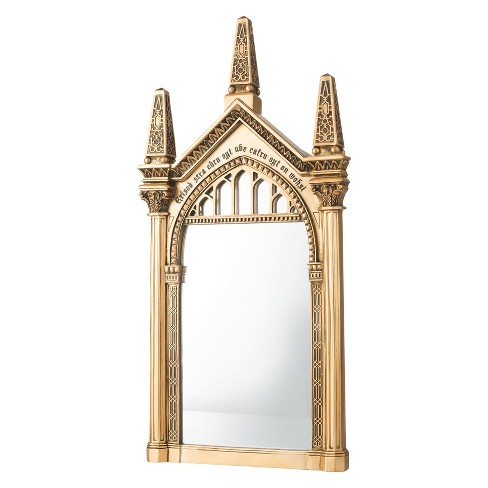Nonrec_Glass: (123, 16, 404, 482)
